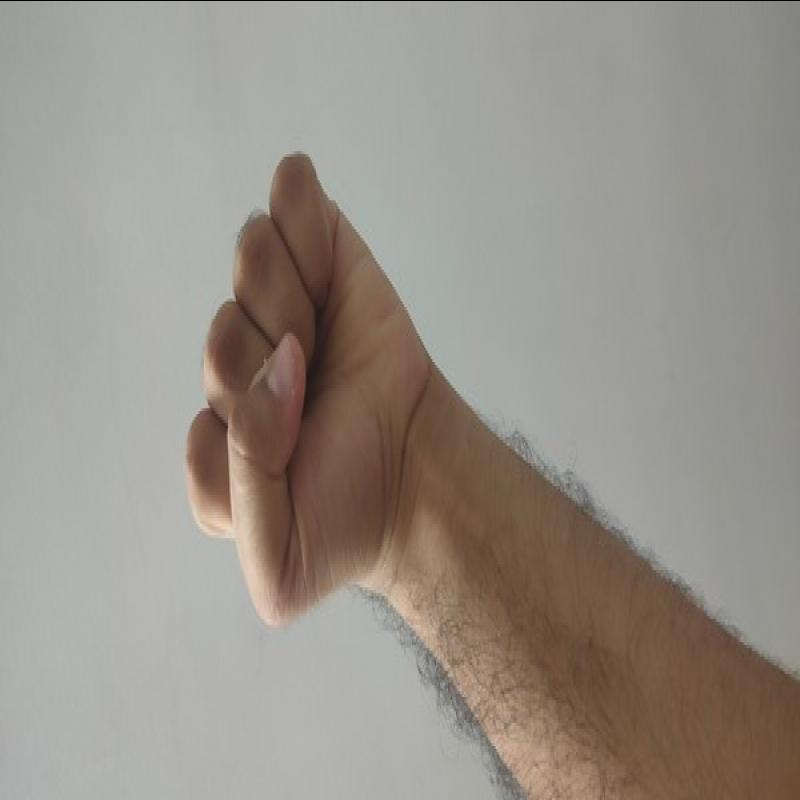Mushti: (166, 124, 430, 634)
